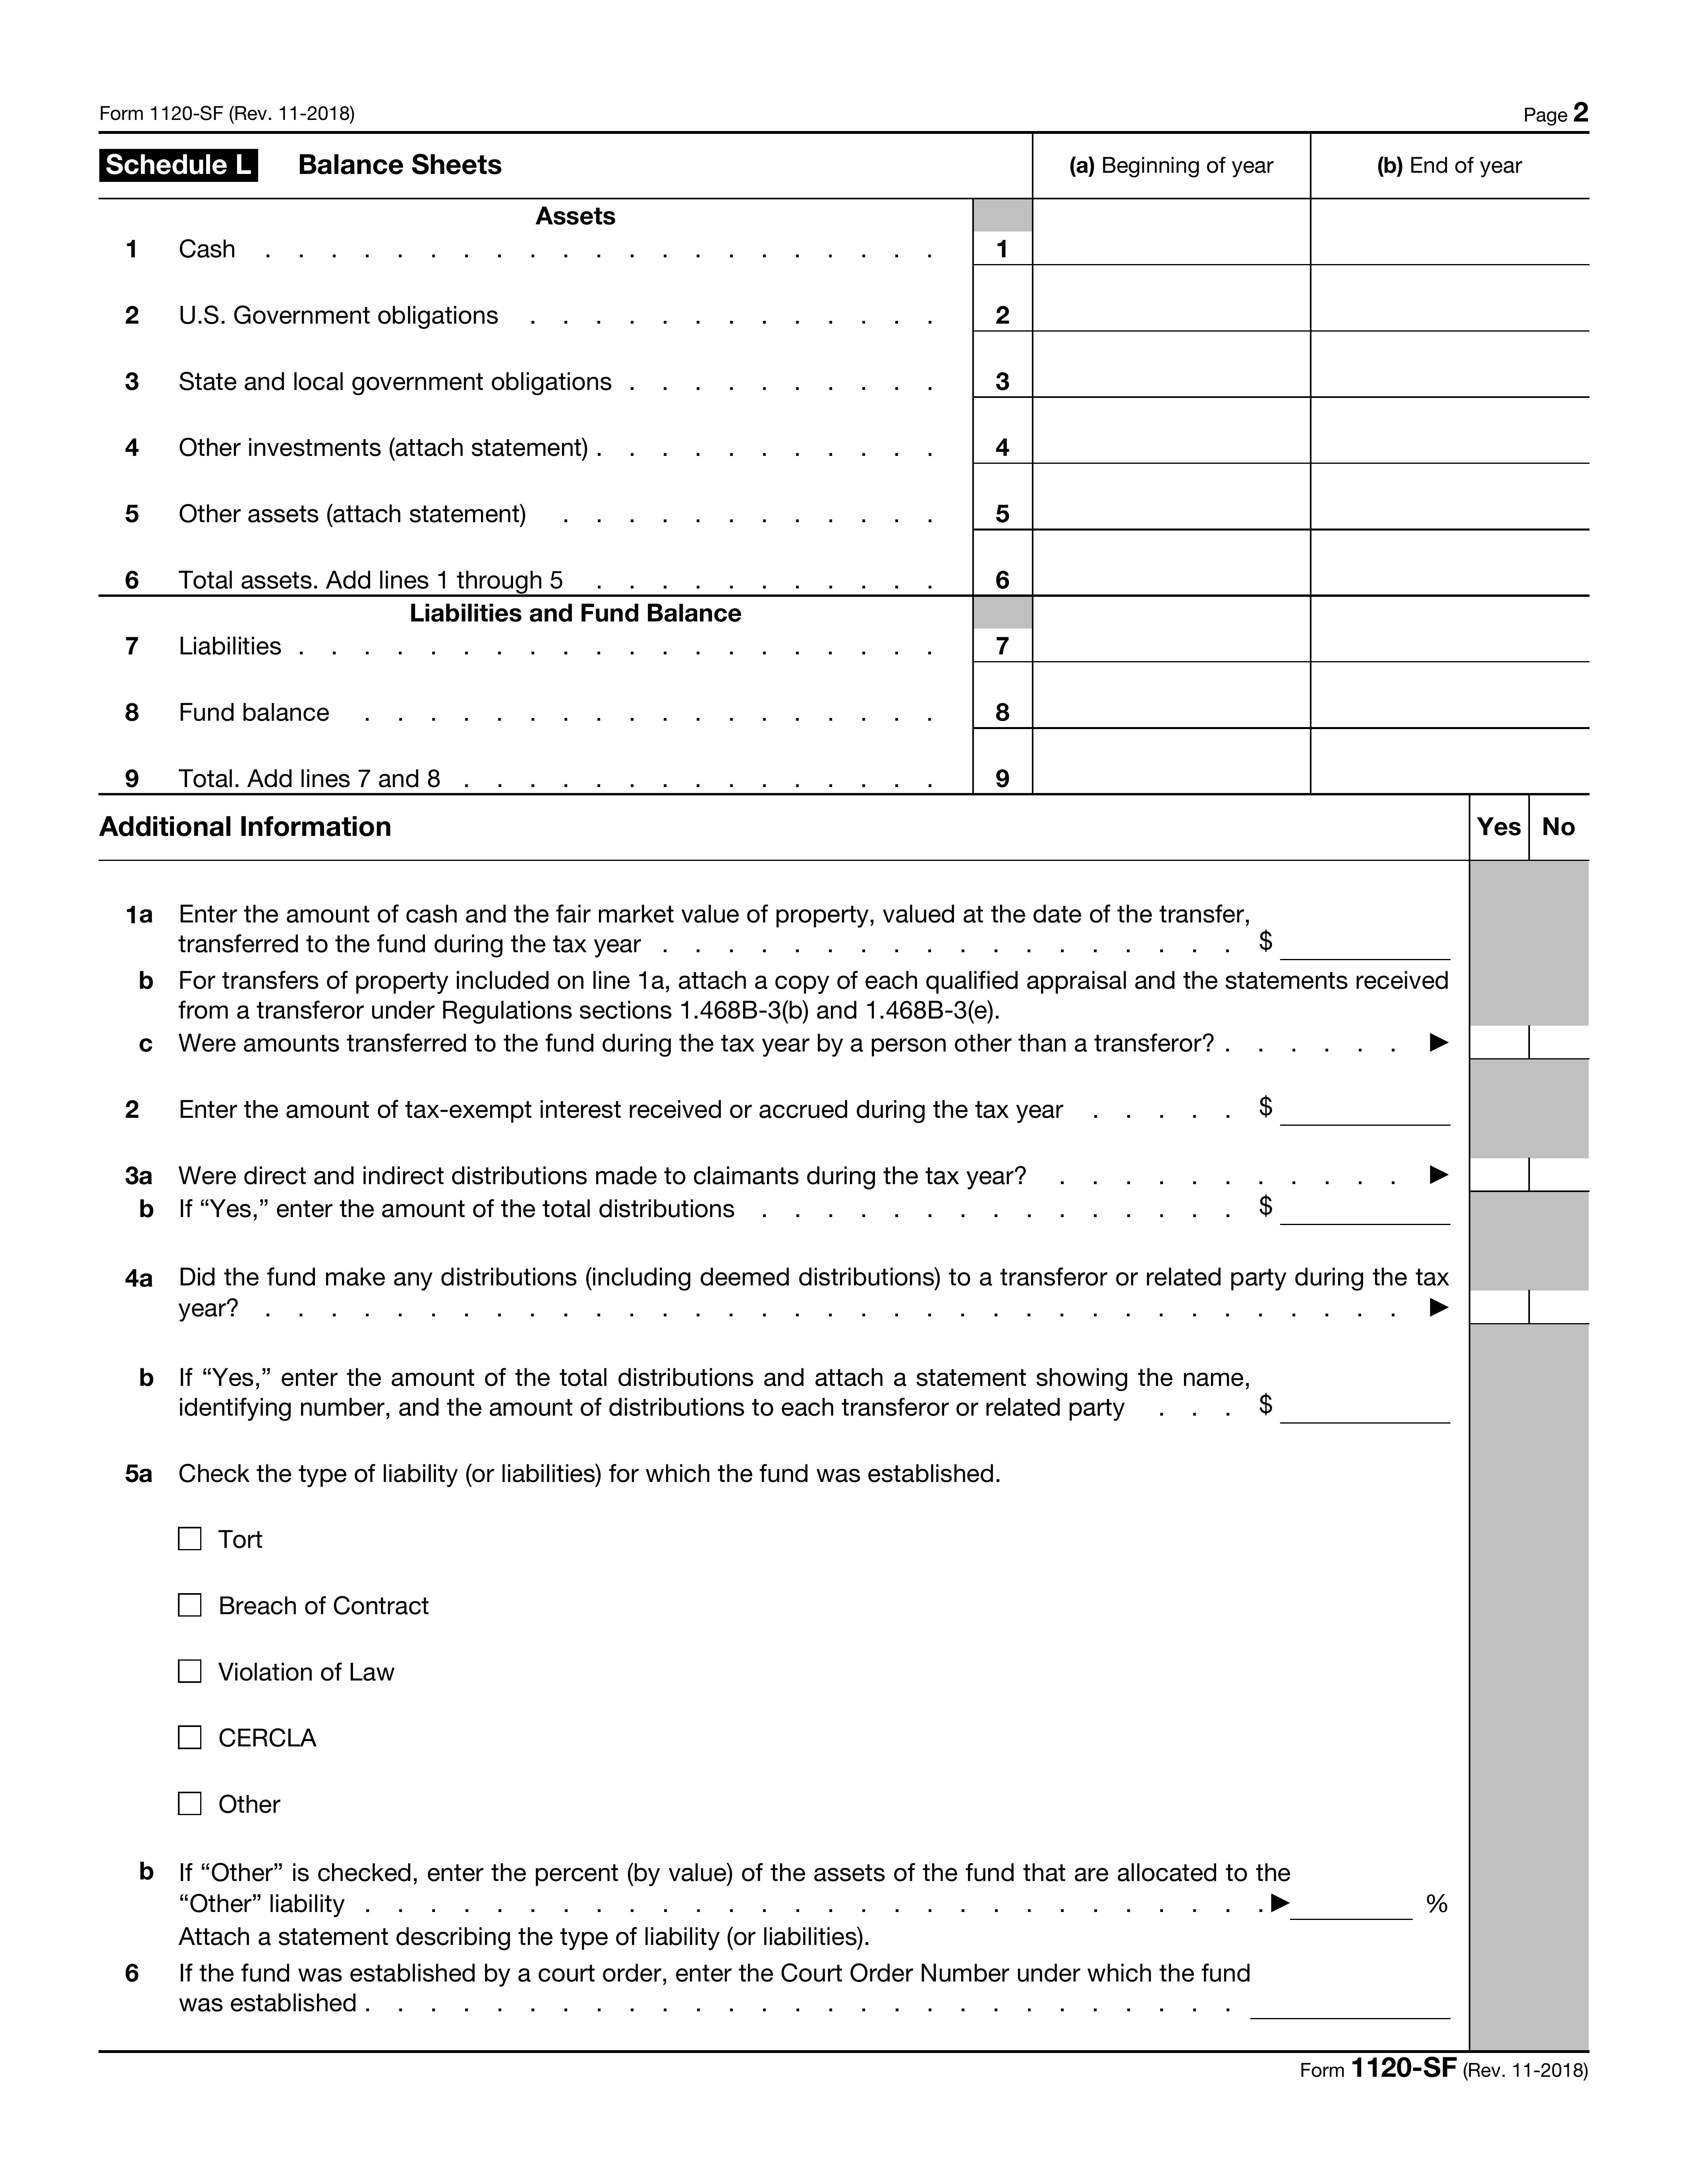table: (80, 803, 1612, 2056), (83, 122, 1599, 803)
